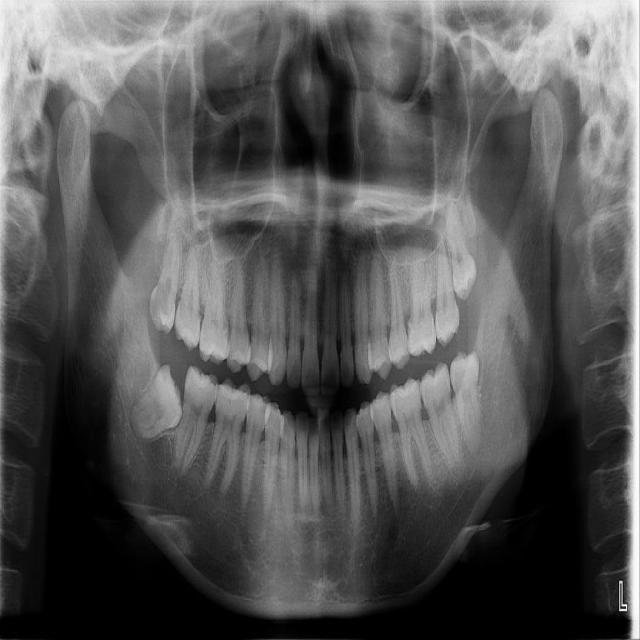3M ESPE Implant: (146, 210, 188, 334)
73: (592, 544, 595, 564)
BioHorizons Implant: (434, 214, 463, 347)
BioLife Implant: (443, 207, 480, 302)
Biomet 3i Implant: (449, 350, 483, 456)
Blue Sky Bio Implant: (417, 361, 461, 465)
Caries: (174, 241, 203, 352)
Implant: (171, 363, 221, 478)
Keystone Dental Implant: (119, 362, 203, 452)
